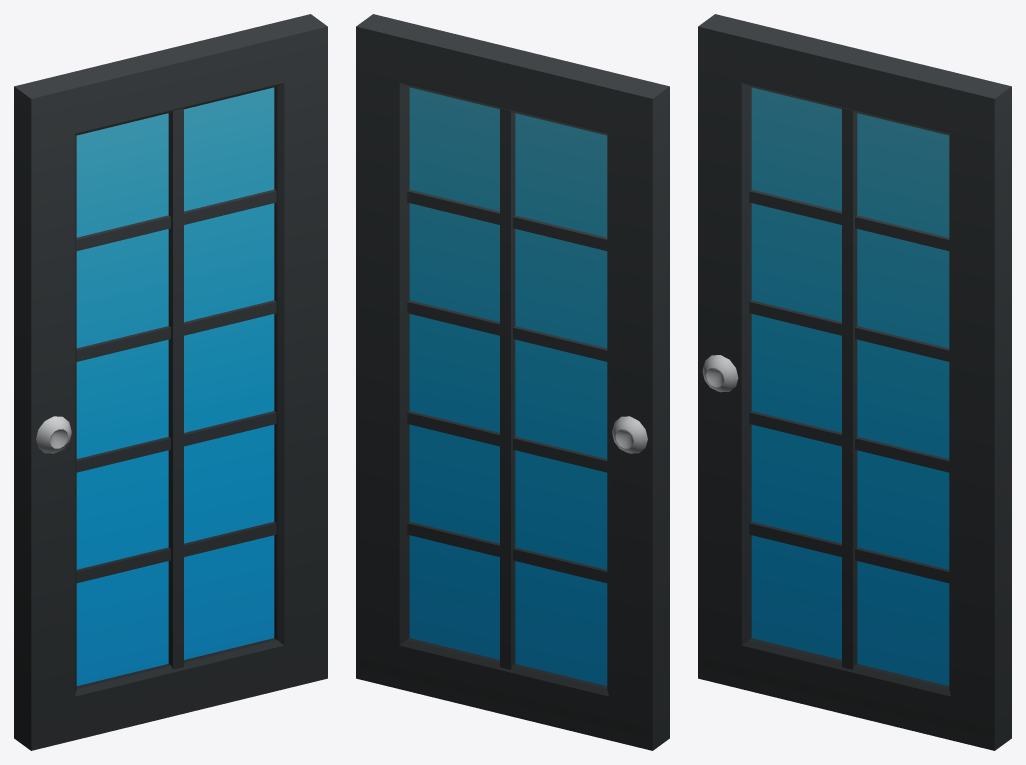
Rendered from Door_Black_06.glb.
3 renders of one model, left to right at view 1: azimuth 30°, elevation 25°; view 2: azimuth 150°, elevation 25°; view 3: azimuth 330°, elevation 25°, orthographic.
Visible parts, largest first — view 1: Door_Black_06; view 2: Door_Black_06; view 3: Door_Black_06.
Part boxes in pixels (<box>): Door_Black_06: <box>14,14,327,750</box>; Door_Black_06: <box>356,14,669,750</box>; Door_Black_06: <box>698,14,1011,750</box>.
Size of the model in its own units: 1 by 2.1 by 0.1634.
Materials: 2 (2 with a texture image).
